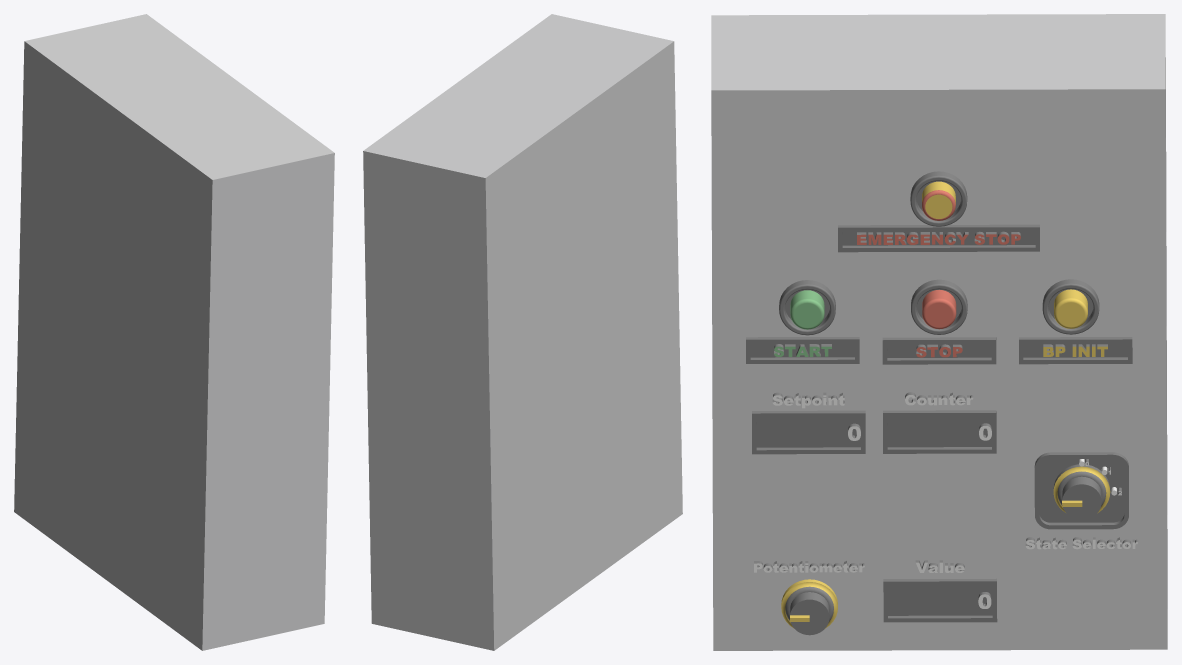
File: colored_box.glb
3 views of the same model, side by side, from view 1: azimuth 30°, elevation 25°; view 2: azimuth 150°, elevation 25°; view 3: azimuth 270°, elevation 25° (orthographic). The views are drawn at different scales.
Visible parts, largest first — view 1: Body1; view 2: Body1; view 3: Body1.
Boxes of the visible parts, x1,y1,x2,y2 form: Body1: (14,14,334,650); Body1: (363,14,682,650); Body1: (711,14,1167,650).
Size of the model in its own units: 0.0917 by 0.2771 by 0.2009.
